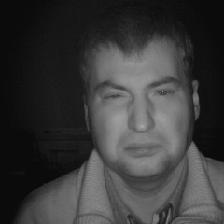sad: (67, 26, 208, 189)
